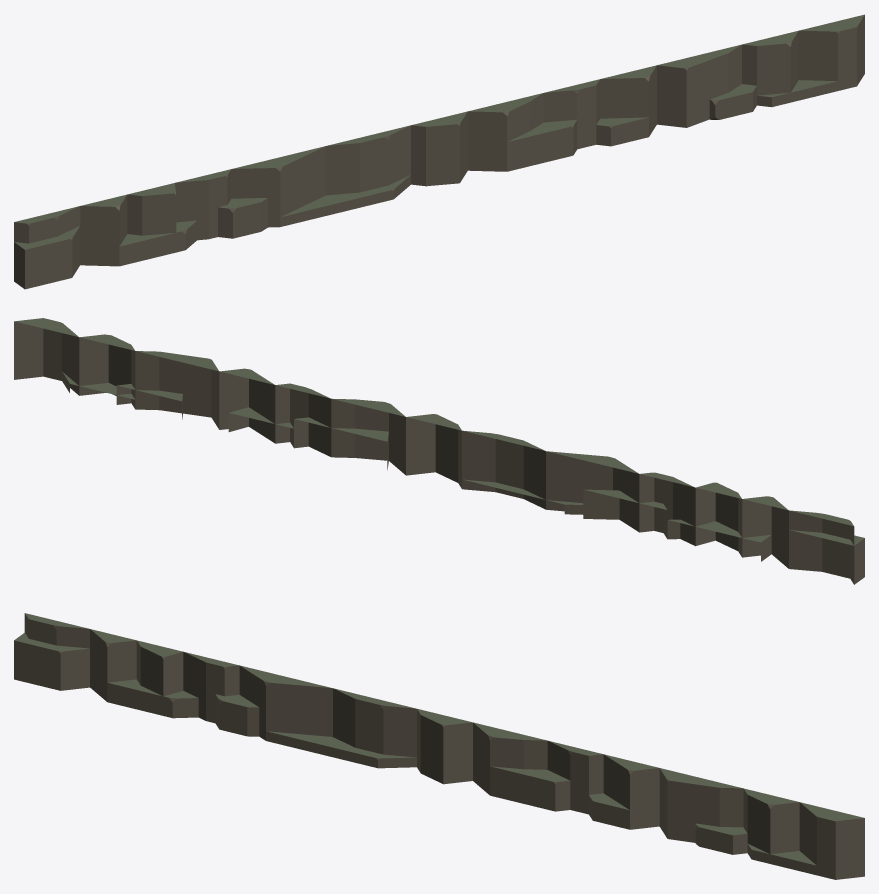
Rendered from StoneWallPlus.fbx.
3 views of the same model, one above another, from view 1: azimuth 30°, elevation 25°; view 2: azimuth 150°, elevation 25°; view 3: azimuth 330°, elevation 25° (orthographic).
Parts seen in each view (by area): view 1: StoneWall; view 2: StoneWall; view 3: StoneWall.
Part boxes in pixels (x1,y1,x2,y2): StoneWall: [14, 14, 864, 289]; StoneWall: [14, 318, 864, 584]; StoneWall: [14, 613, 864, 879].
Size of the model in its own units: 9000 by 600 by 200.
